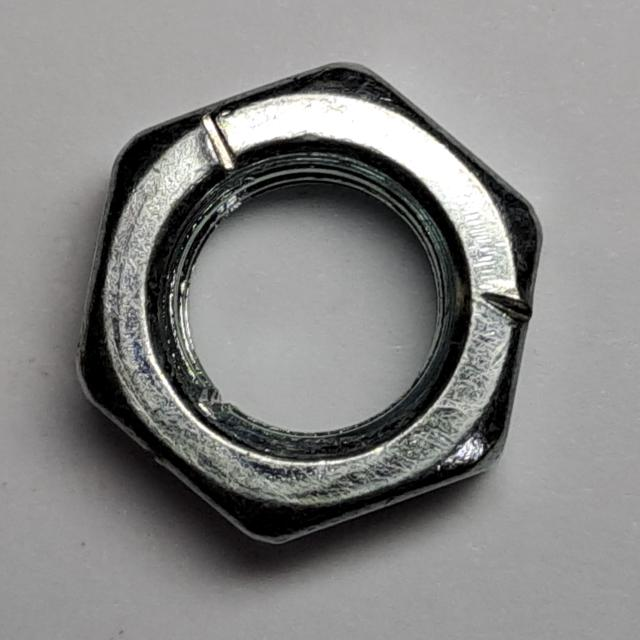Scratches: (66, 49, 566, 561)
